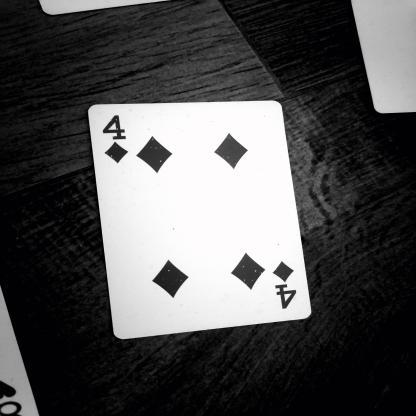4D: (266, 252, 310, 314), (100, 106, 134, 172)
